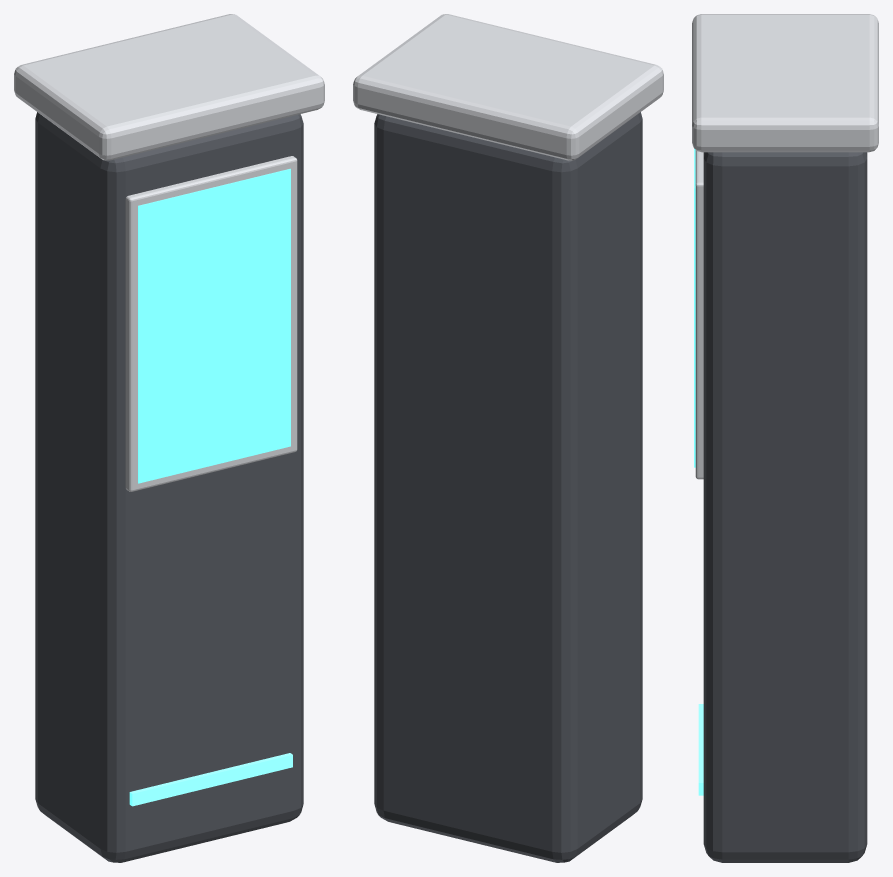
File: terminal_kiosk_info_pillar.glb
The picture shows the model from 3 angles, left to right: view 1: azimuth 30°, elevation 25°; view 2: azimuth 150°, elevation 25°; view 3: azimuth 270°, elevation 25°; orthographic projection.
Visible parts, largest first — view 1: GD_terminal_kiosk_info_pillar__m0, GD_terminal_kiosk_info_pillar__m2, GD_terminal_kiosk_info_pillar__m1, GD_terminal_kiosk_info_pillar__m3; view 2: GD_terminal_kiosk_info_pillar__m0, GD_terminal_kiosk_info_pillar__m1; view 3: GD_terminal_kiosk_info_pillar__m0, GD_terminal_kiosk_info_pillar__m1, GD_terminal_kiosk_info_pillar__m2, GD_terminal_kiosk_info_pillar__m3.
Boxes of the visible parts, x1,y1,x2,y2 form: GD_terminal_kiosk_info_pillar__m0: [35, 112, 303, 862]; GD_terminal_kiosk_info_pillar__m2: [138, 168, 290, 483]; GD_terminal_kiosk_info_pillar__m1: [14, 14, 324, 491]; GD_terminal_kiosk_info_pillar__m3: [129, 753, 292, 806]; GD_terminal_kiosk_info_pillar__m0: [374, 112, 642, 862]; GD_terminal_kiosk_info_pillar__m1: [353, 14, 663, 160]; GD_terminal_kiosk_info_pillar__m0: [703, 152, 867, 862]; GD_terminal_kiosk_info_pillar__m1: [692, 14, 878, 479]; GD_terminal_kiosk_info_pillar__m2: [694, 148, 695, 467]; GD_terminal_kiosk_info_pillar__m3: [698, 704, 703, 795].
Size of the model in its own units: 0.56 by 1.78 by 0.4.
